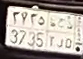3: (28, 13, 37, 47), (10, 11, 19, 44)
5: (36, 15, 46, 47)
7: (18, 12, 28, 45)
D: (65, 21, 73, 49)
J: (56, 18, 66, 48)
T: (47, 18, 56, 47)
